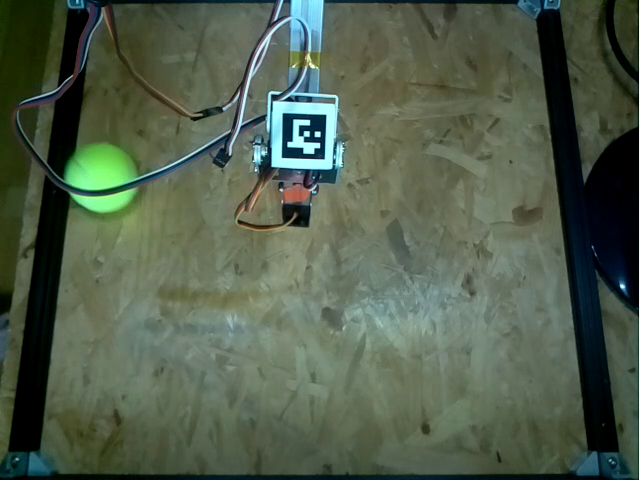tennis_ball: (65, 139, 139, 215)
